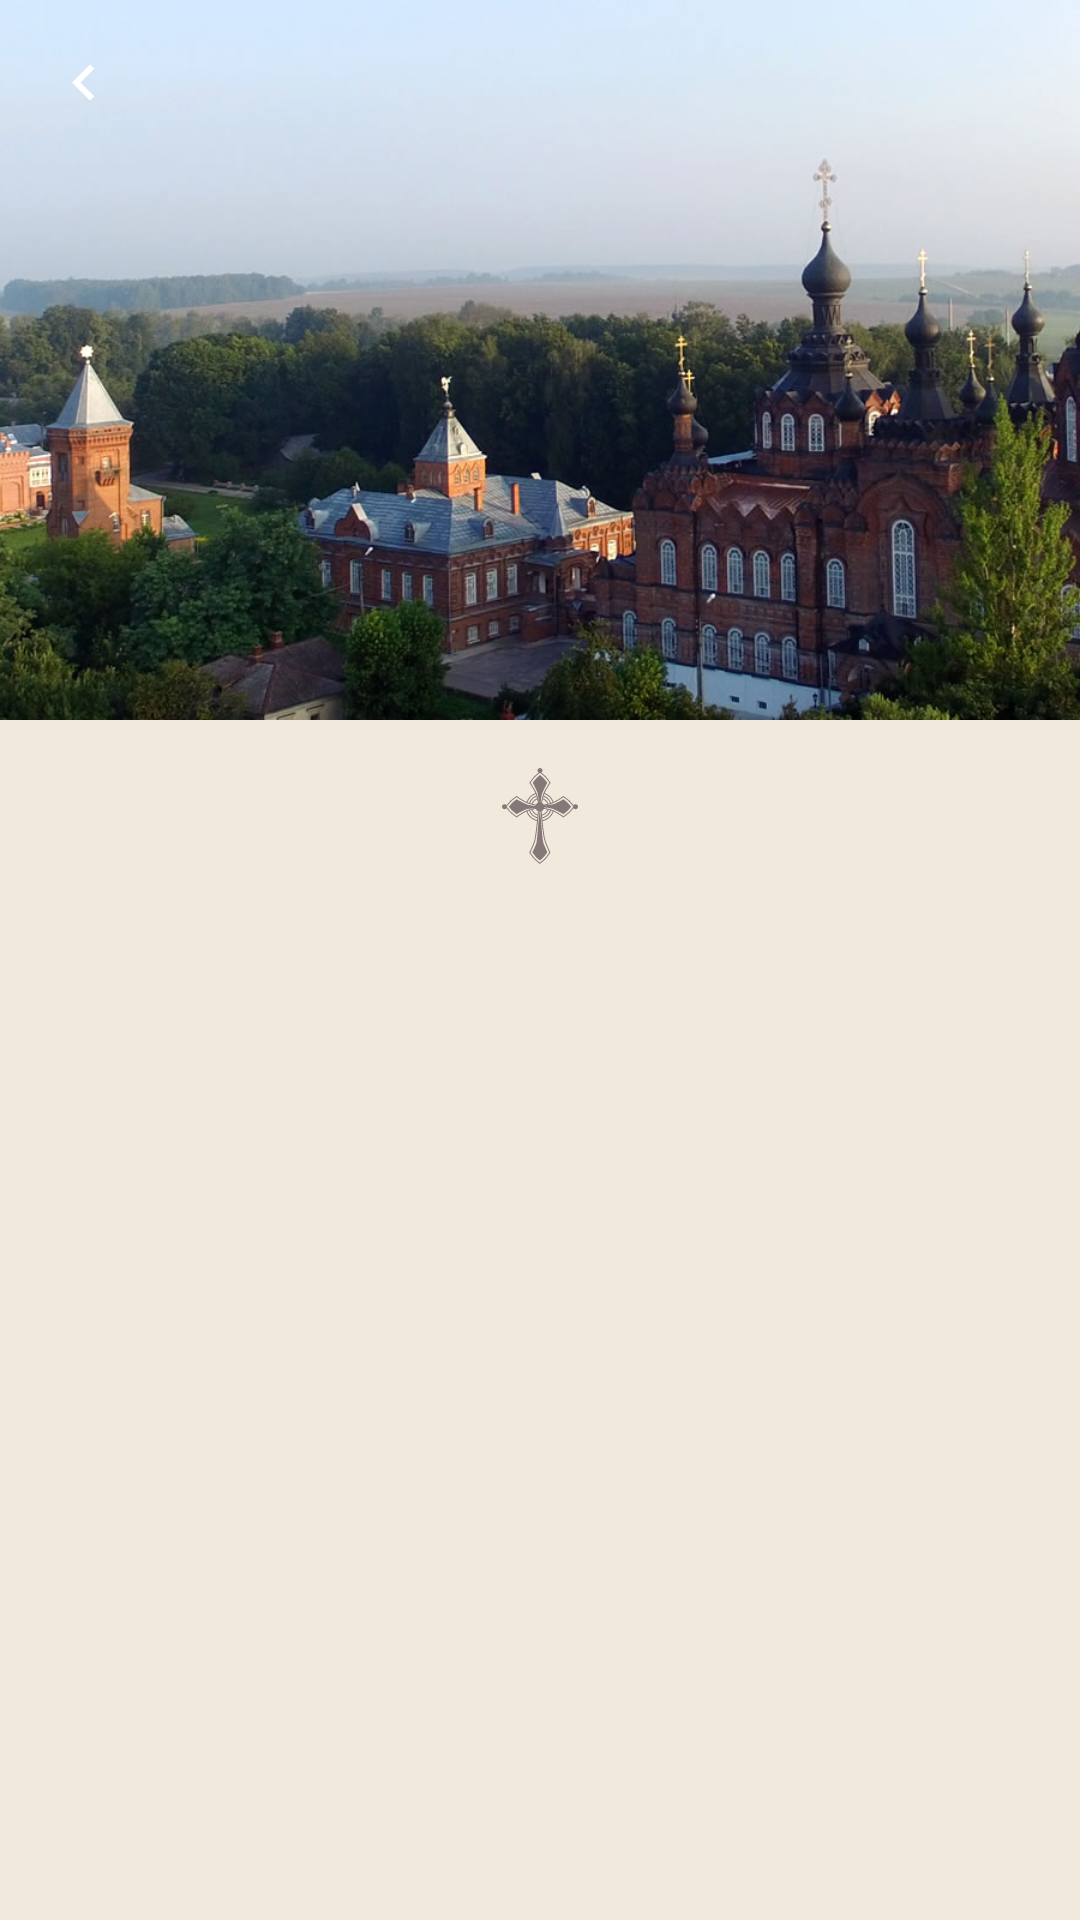

Icons on this 1080x1920 Android screen, each with the point to tap as point (x, y):
cross: point (540, 816)
